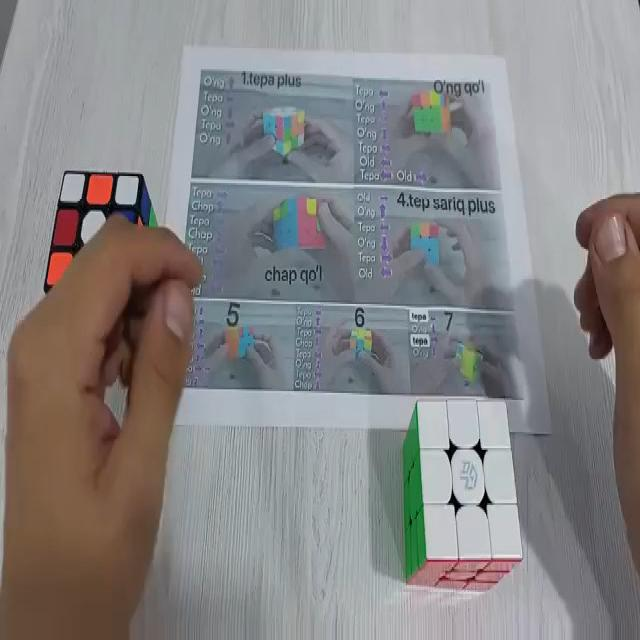Rub: (401, 394, 521, 596)
